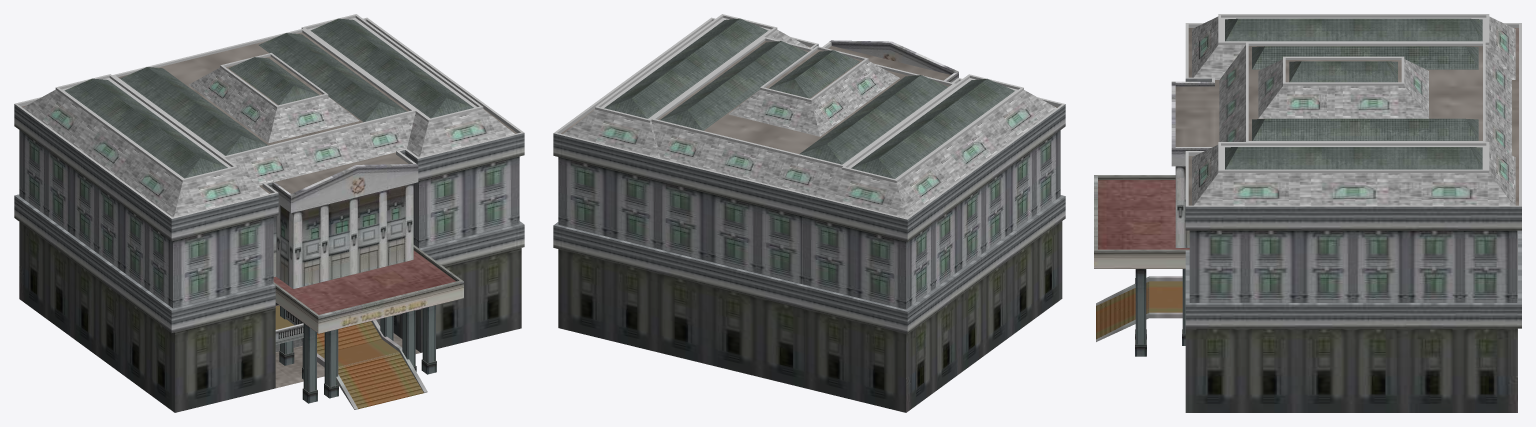
The picture shows the model from 3 angles, left to right: view 1: azimuth 30°, elevation 25°; view 2: azimuth 150°, elevation 25°; view 3: azimuth 270°, elevation 25°; orthographic projection. The views are drawn at different scales.
Parts seen in each view (by area): view 1: HN669_BaoTangCongBinh; view 2: HN669_BaoTangCongBinh; view 3: HN669_BaoTangCongBinh.
Boxes of the visible parts, x1,y1,x2,y2 form: HN669_BaoTangCongBinh: (14,14,524,412); HN669_BaoTangCongBinh: (553,14,1065,412); HN669_BaoTangCongBinh: (1094,14,1521,412).
Size of the model in its own units: 33 by 21.9 by 32.45.
1 material, 1 textured.
